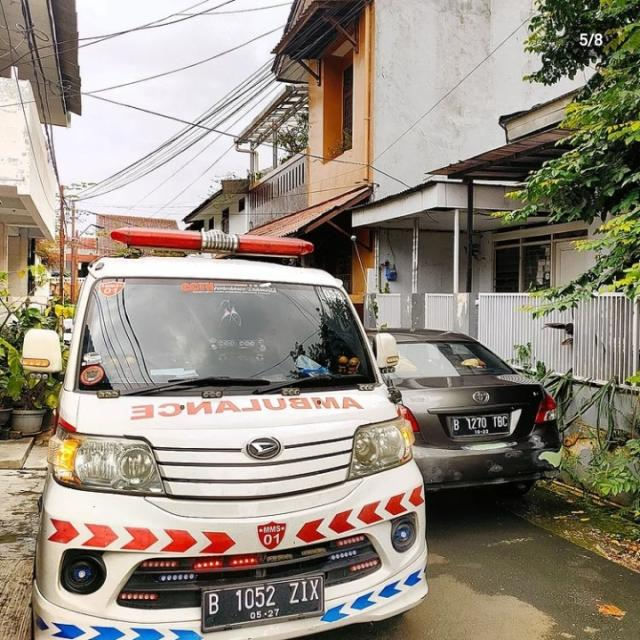emergency-vehicle: (19, 225, 436, 639)
